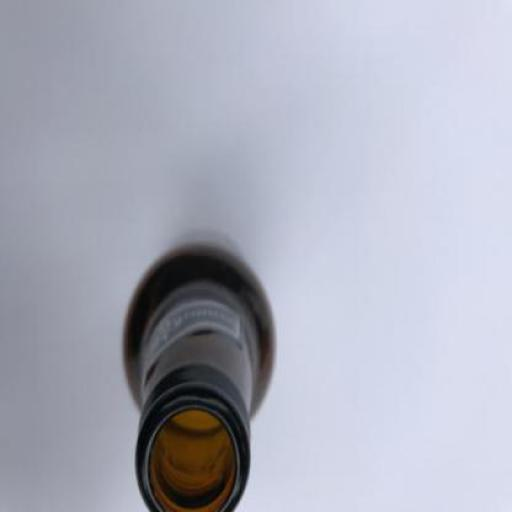glass: (124, 230, 274, 510)
